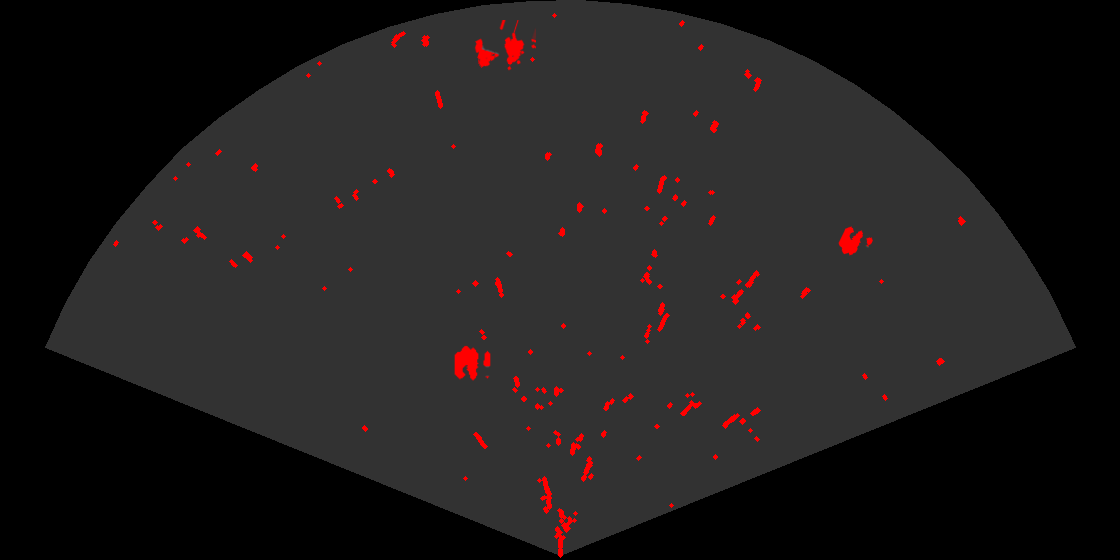ball: (453, 344, 492, 382), (837, 225, 874, 257)
cage: (473, 20, 536, 72)
